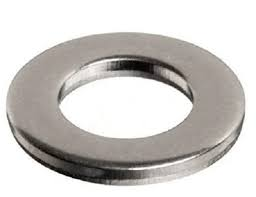No thread: (53, 56, 200, 137)
